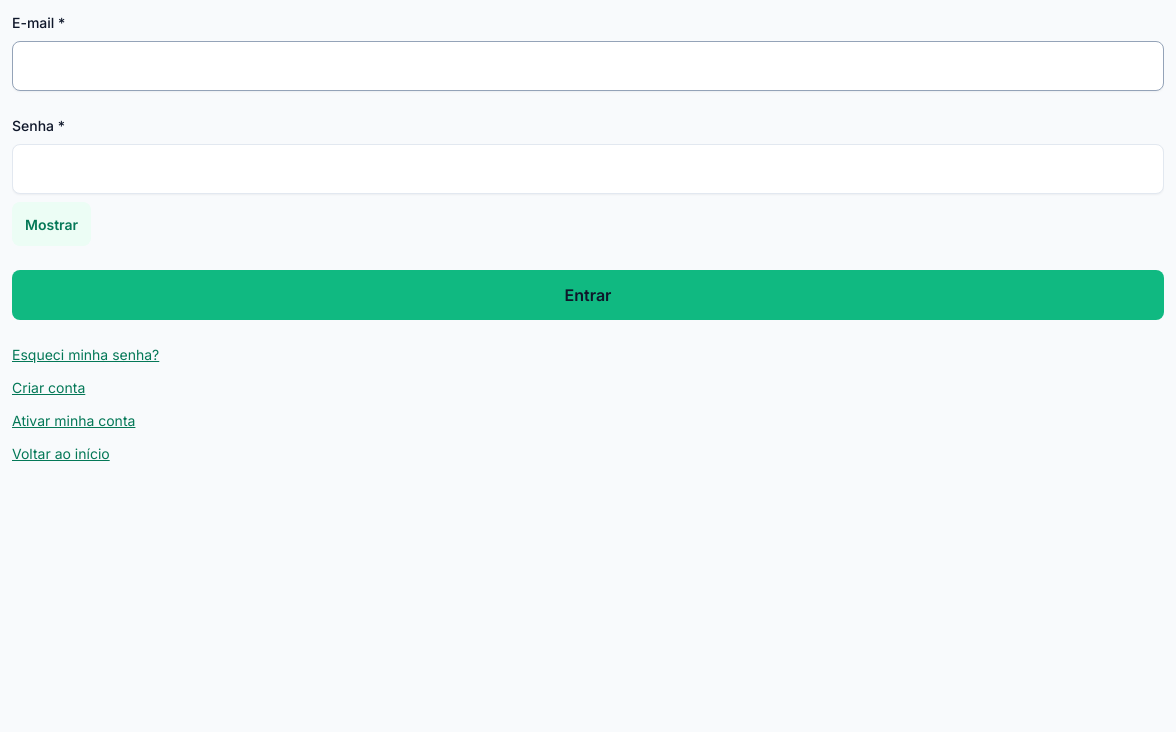
Scenario: login form › shows loading and blocks duplicate submissions
Type "test@example.com" into the field labelled "E-mail *".
click(588, 66); type("test@example.com")  # box [12,41,1164,91]
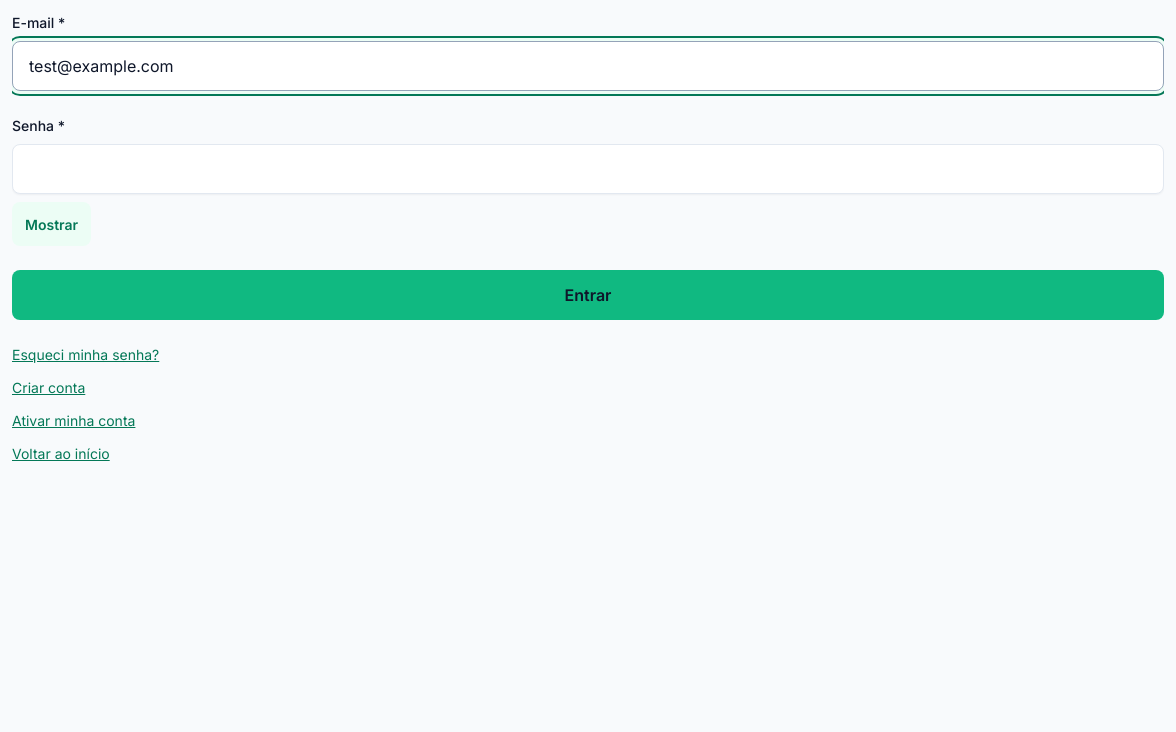
Type "synthetic-password" into the password field labelled "Senha *".
click(588, 169); type("synthetic-password")  # box [12,144,1164,194]
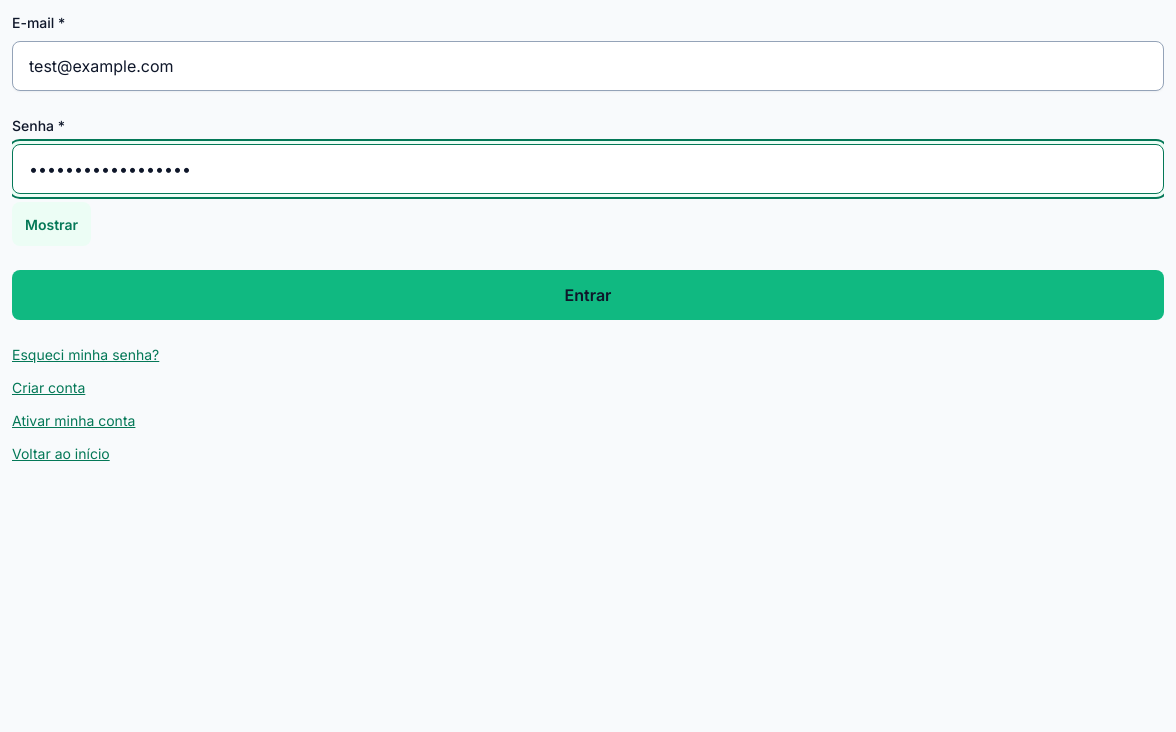
Double-click the button "Entrar".
double_click(588, 295)  # box [12,270,1164,320]
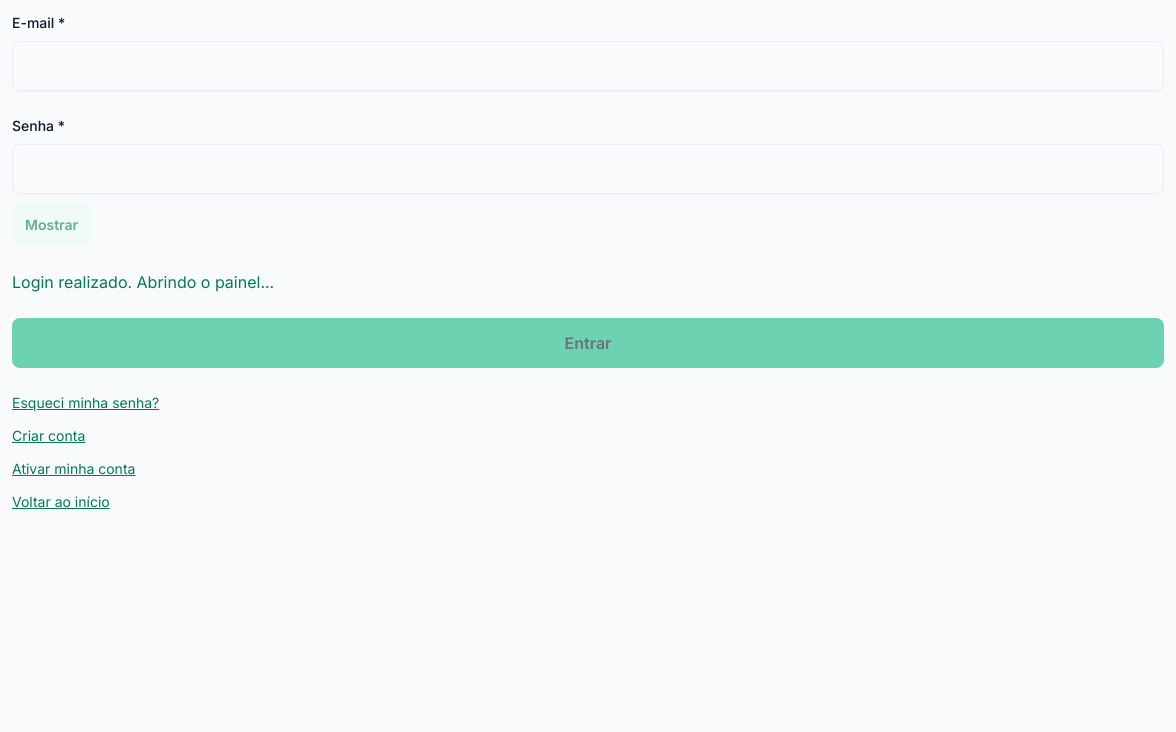
Check: the element labelled "E-mail * Senha * Mostrar" is disabled, box [12,12,1164,246]
